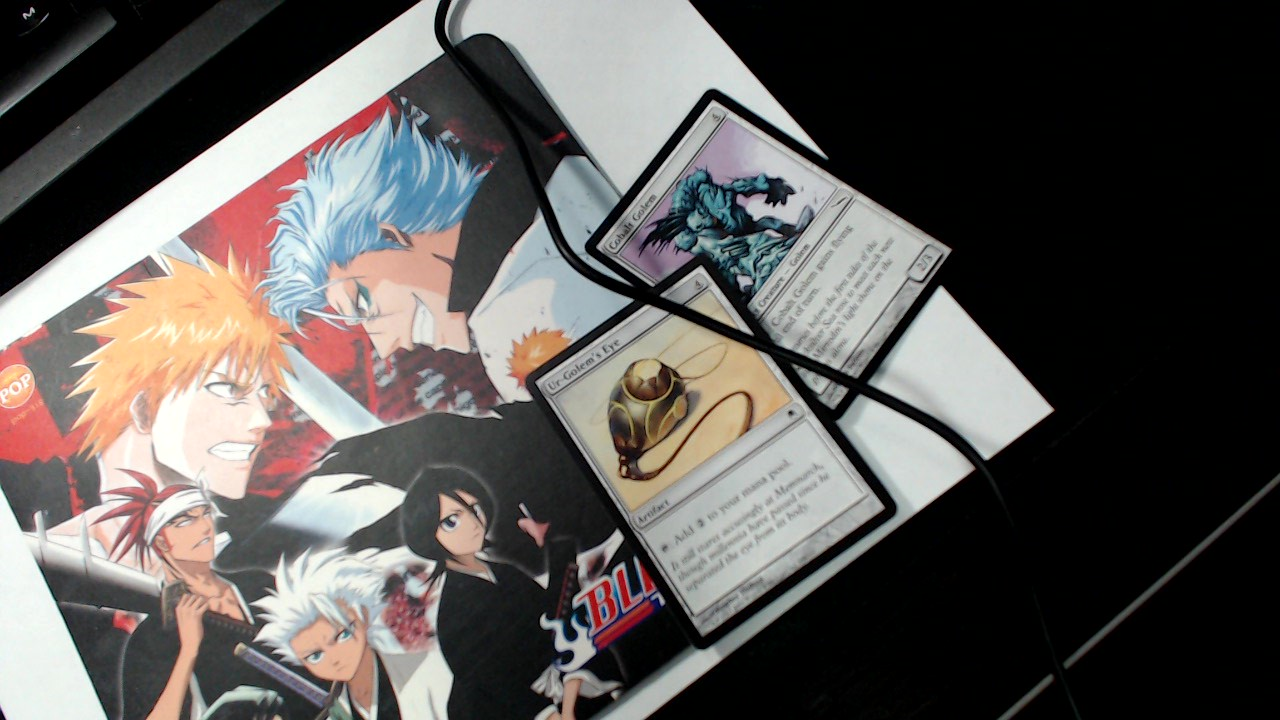MTG Card: (509, 250, 904, 655), (577, 82, 971, 431)
